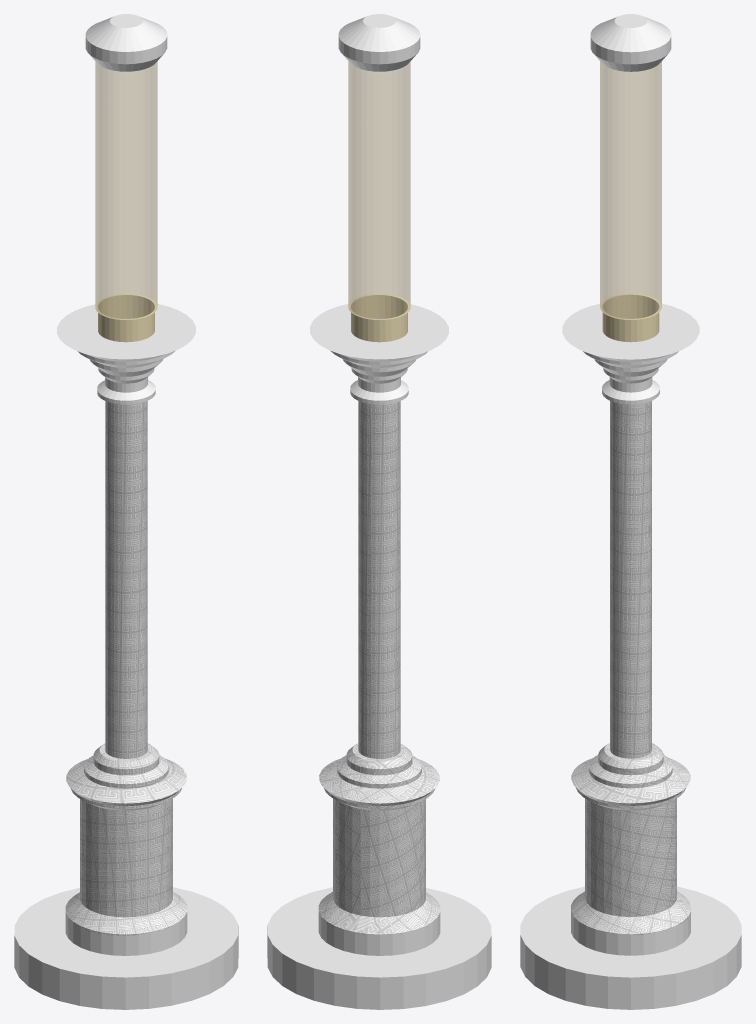
The model's file is LampTextured.fbx.
3 views of the same model, side by side, from view 1: azimuth 30°, elevation 25°; view 2: azimuth 150°, elevation 25°; view 3: azimuth 270°, elevation 25° (orthographic).
Visible parts, largest first — view 1: lamp3new:Mesh; view 2: lamp3new:Mesh; view 3: lamp3new:Mesh.
Boxes of the visible parts, left/top/right/bottom form: lamp3new:Mesh: left=14, top=14, right=238, bottom=1009; lamp3new:Mesh: left=267, top=14, right=491, bottom=1009; lamp3new:Mesh: left=520, top=14, right=741, bottom=1009.
Size of the model in its own units: 2.2 by 10.11 by 2.15.
